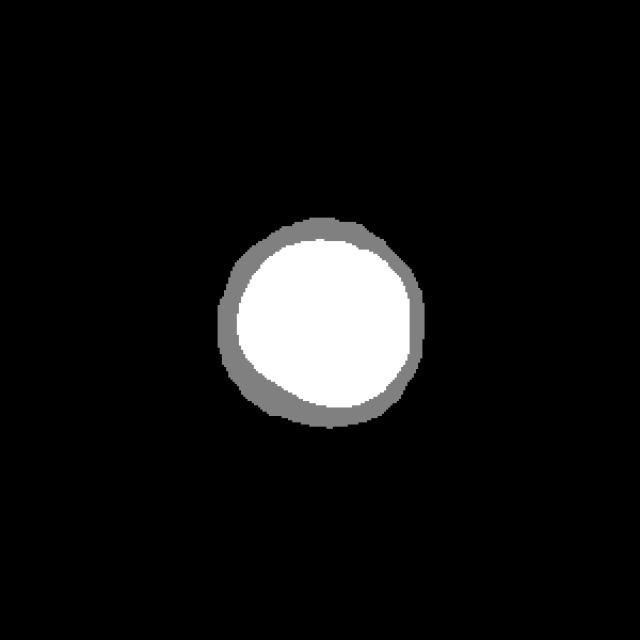WBC: (205, 205, 448, 437)
